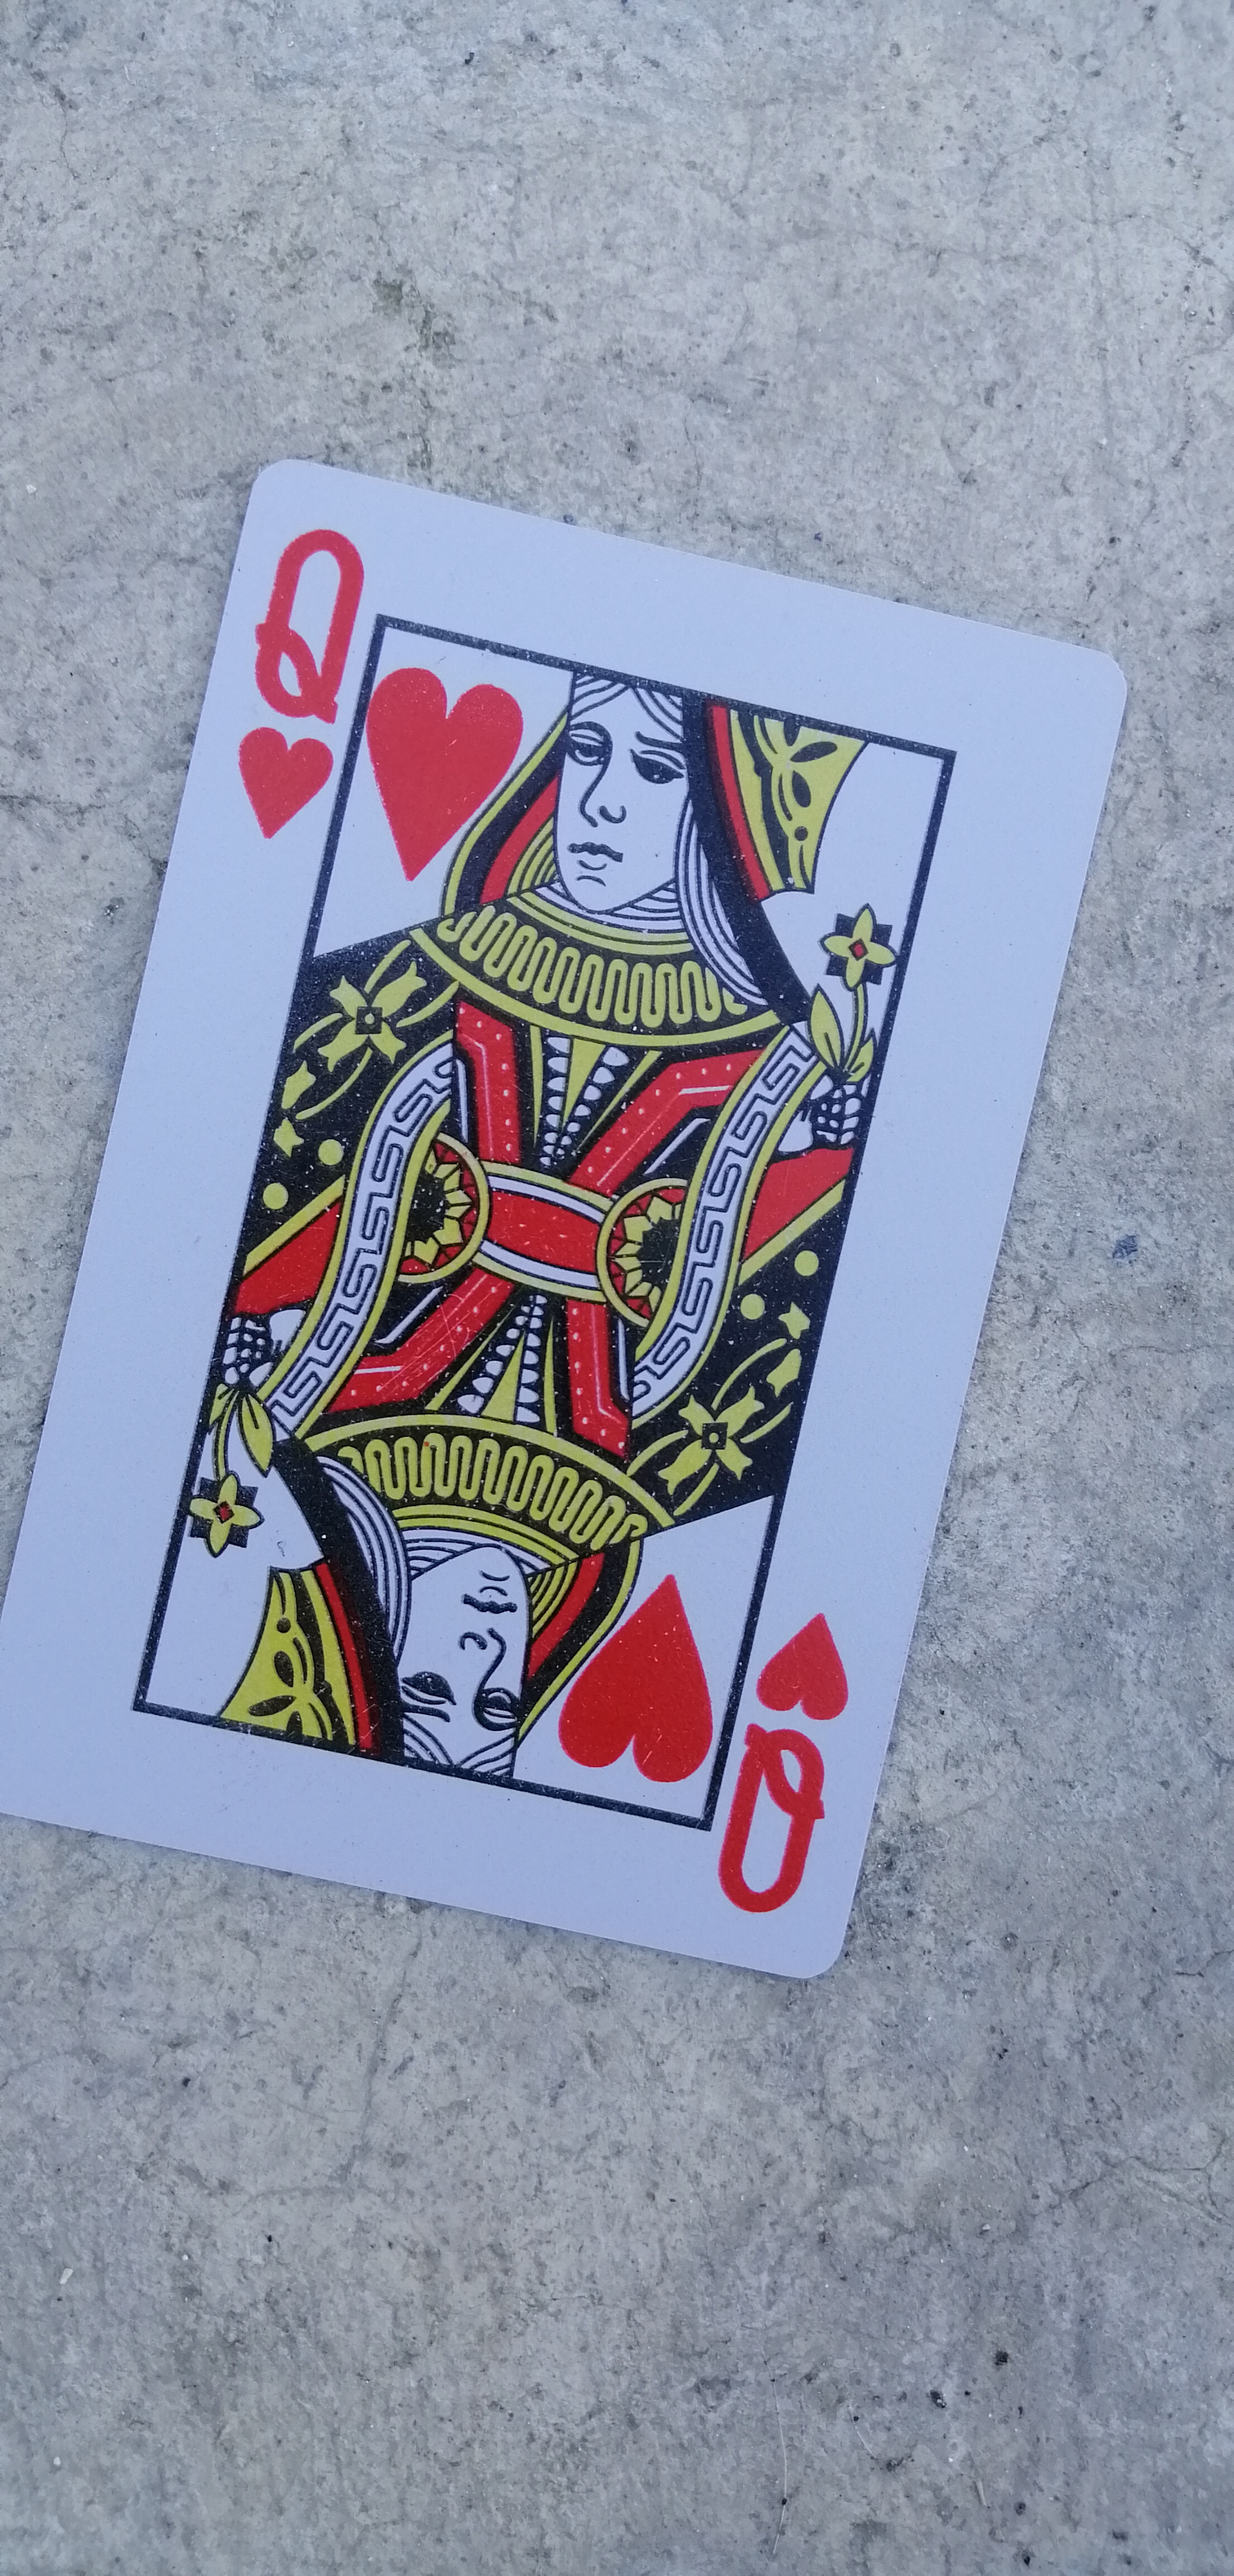queen: (13, 434, 1035, 2050)
